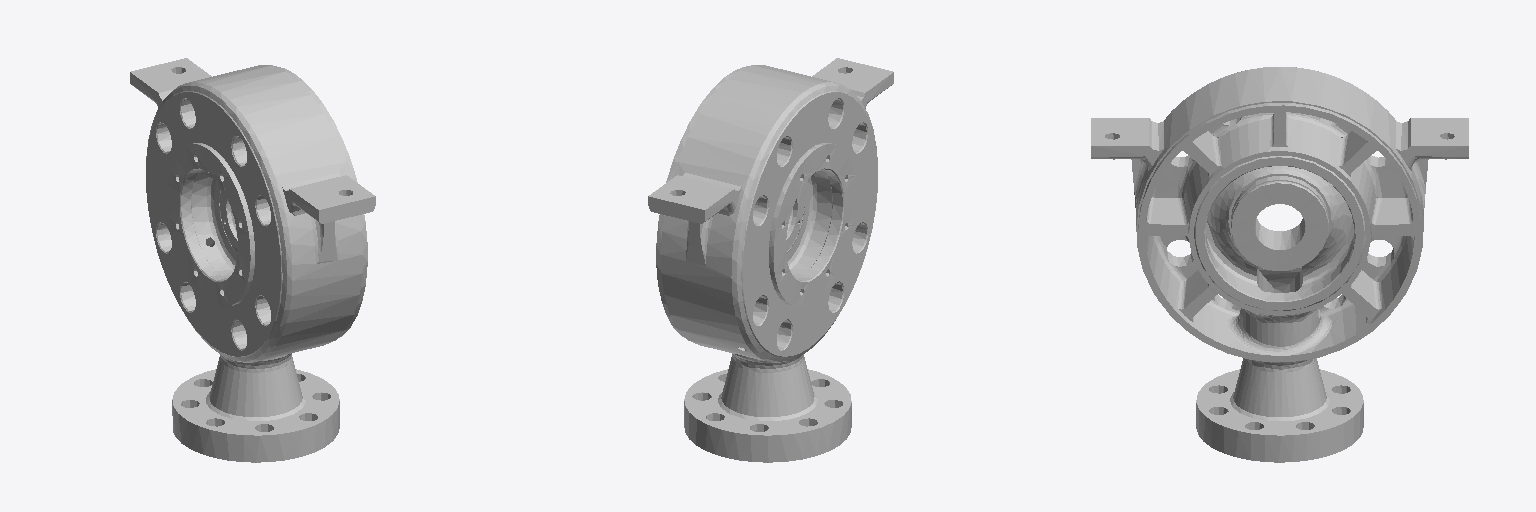
File: pressure cap.obj
The picture shows the model from 3 angles: view 1: azimuth 30°, elevation 25°; view 2: azimuth 150°, elevation 25°; view 3: azimuth 270°, elevation 25°; orthographic projection.
Parts seen in each view (by area): view 1: imagetostl_mesh; view 2: imagetostl_mesh; view 3: imagetostl_mesh.
Boxes of the visible parts, <box> form: imagetostl_mesh: <box>130,58,375,462</box>; imagetostl_mesh: <box>648,58,893,462</box>; imagetostl_mesh: <box>1091,67,1468,462</box>.
Size of the model in its own units: 461 by 1045 by 1040.